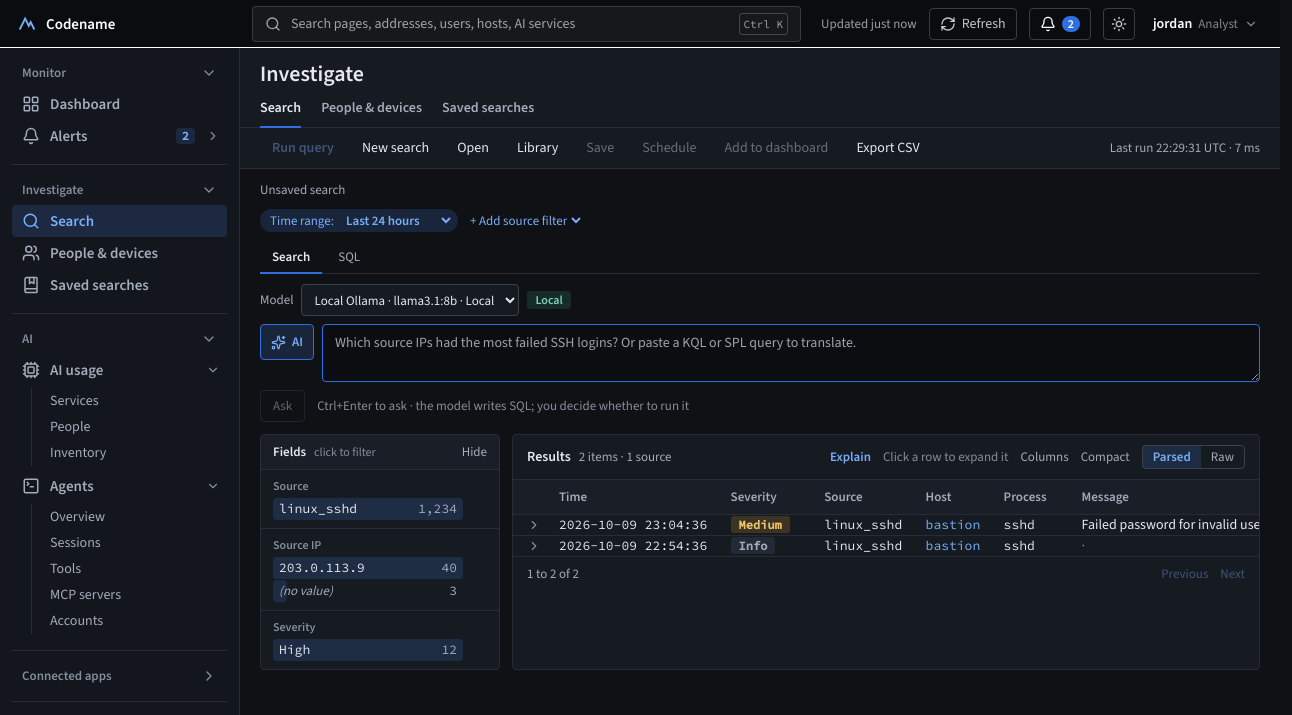
Scenario: Ask › renders model text as plain text, labelled as model output
This screenshot has width=1292, height=715.
Type "failed logins" into the text box named "Question". click: (791, 353)
box: left=322, top=324, right=1260, bottom=382
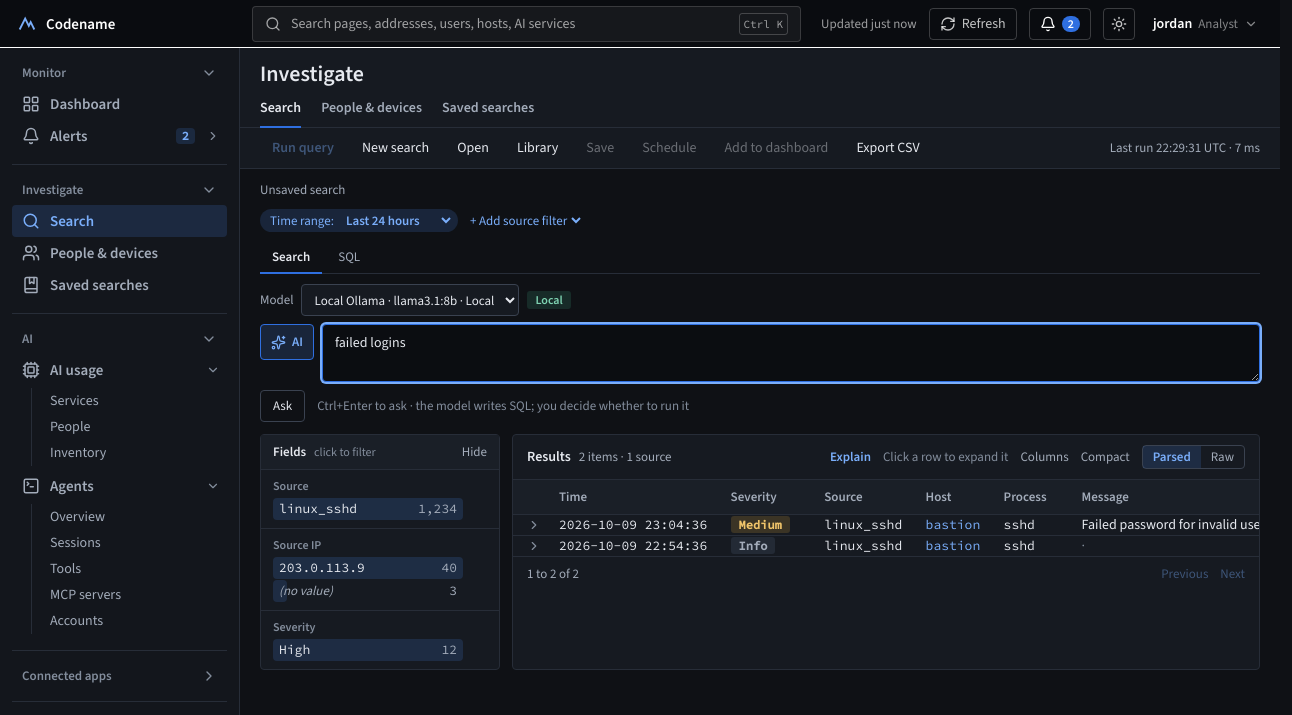
Click the button "Ask". click: (283, 406)
box: left=260, top=390, right=305, bottom=422
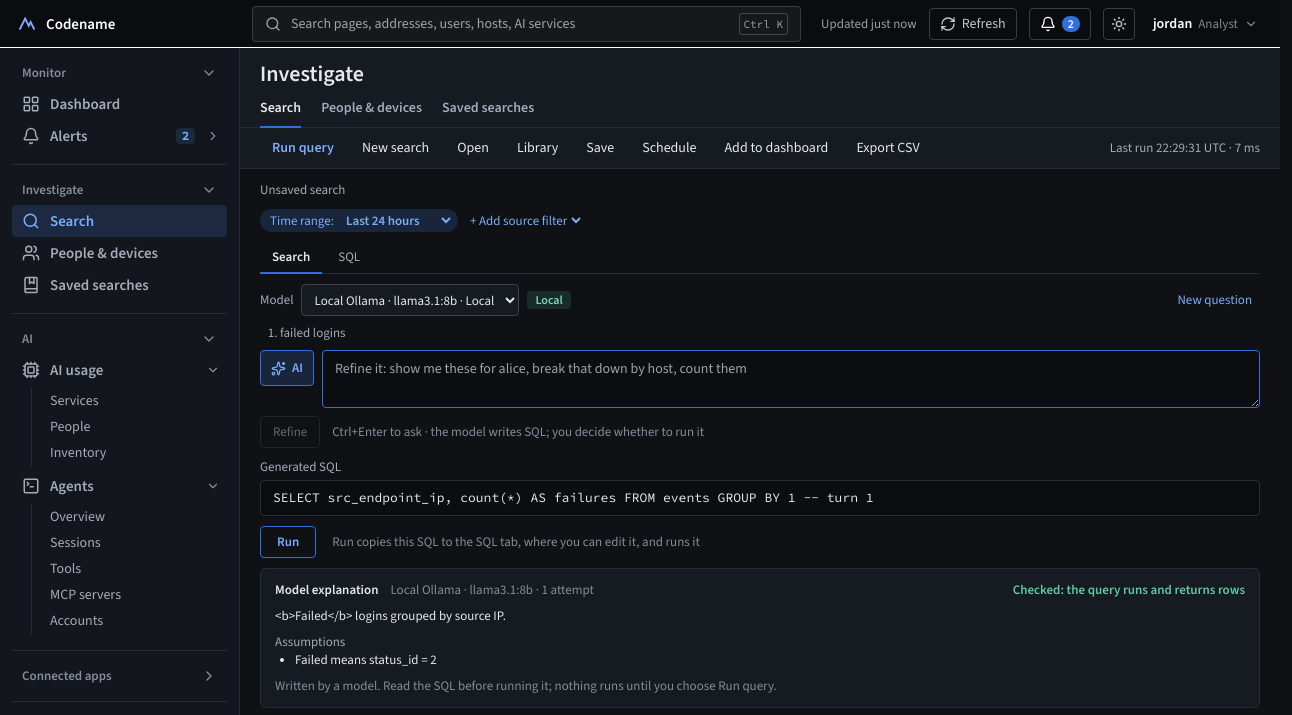
Expected: the text "<b>Failed</b> logins grouped by source IP." is shown, left=275, top=607, right=506, bottom=624
Expected: the list item "Failed means status_id = 2" is shown, left=295, top=651, right=437, bottom=668
Expected: the text "Written by a model" is shown, left=275, top=677, right=777, bottom=694
